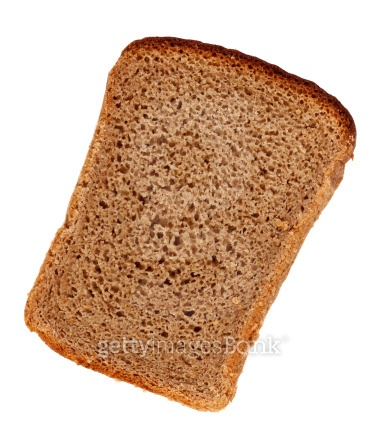slice of bread: (24, 25, 365, 430)
